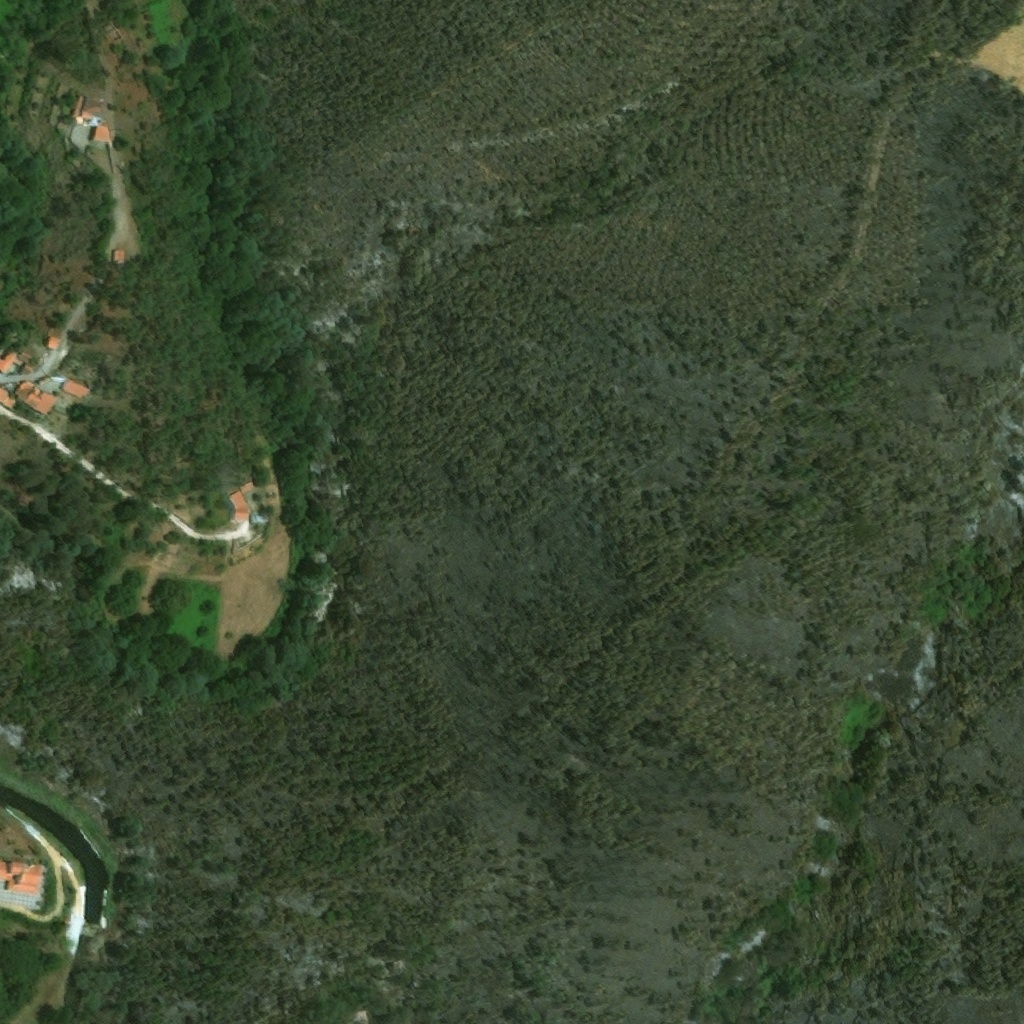0 no-damage: (0, 861, 45, 896), (15, 381, 57, 415), (67, 93, 108, 126), (61, 379, 90, 400), (0, 352, 24, 375), (20, 351, 40, 375), (0, 387, 16, 409), (229, 491, 246, 509), (92, 127, 110, 142), (232, 506, 246, 522), (49, 335, 62, 351), (239, 480, 254, 493), (115, 248, 125, 263)
